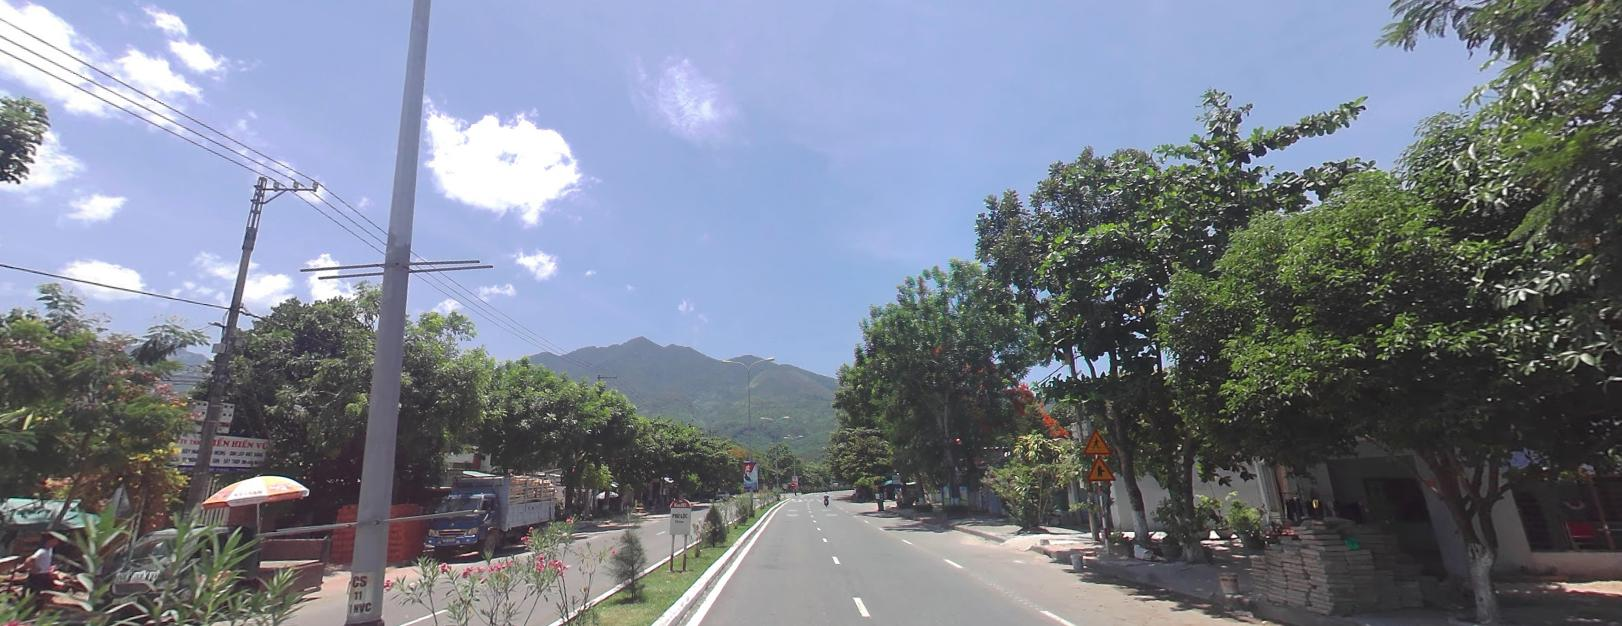Nguy hiem: (1081, 456, 1118, 485), (1081, 427, 1114, 453)
